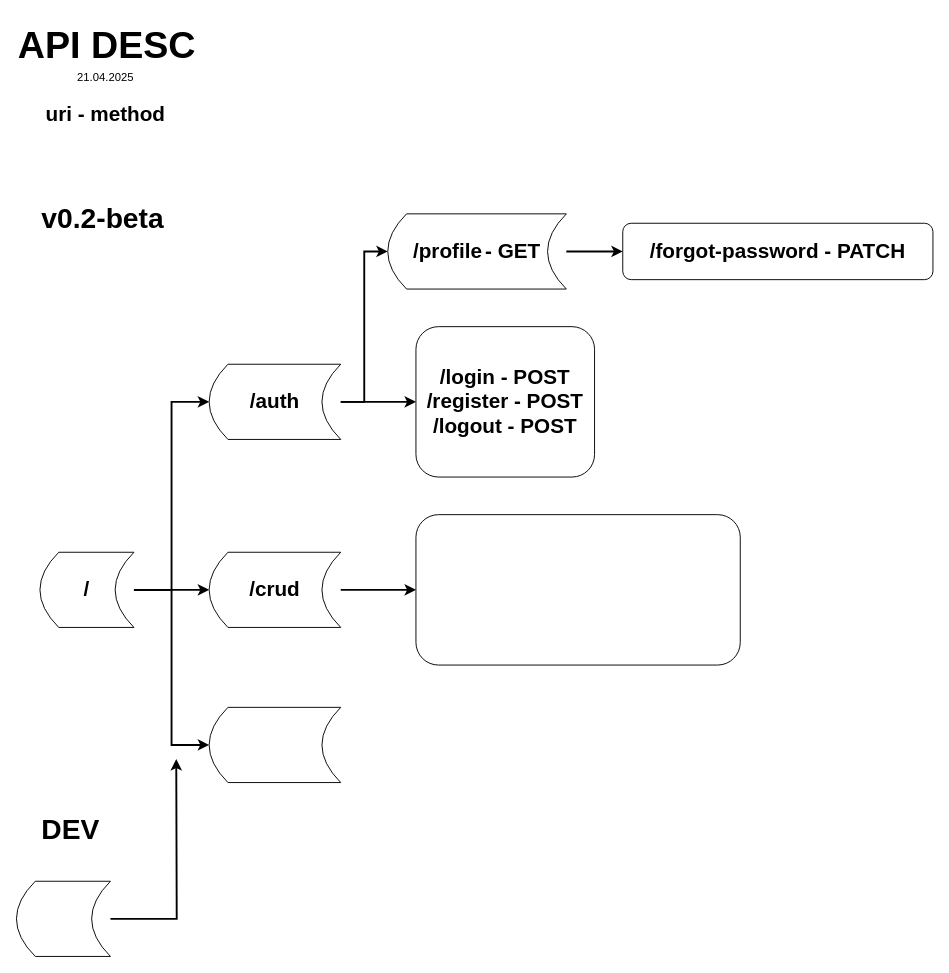
The diagram is 949 pixels wide and 973 high, and some of its shapes have lost their labels. Here are the shapes that lost their labels. From the top down, the box of each, then its label:
(415, 514, 740, 665): /polygon - GET|POST /polygon/id - DELETE|PUT
(208, 706, 341, 783): /get-img
(16, 880, 110, 956): /api
